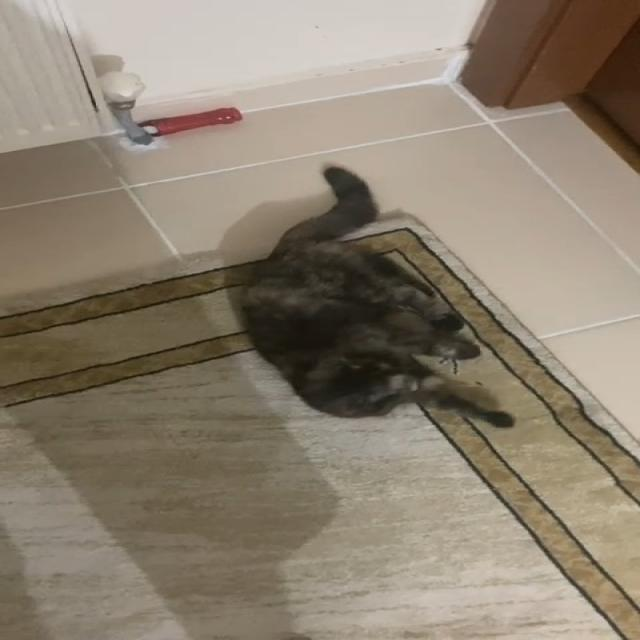authorized: (236, 164, 515, 428)
